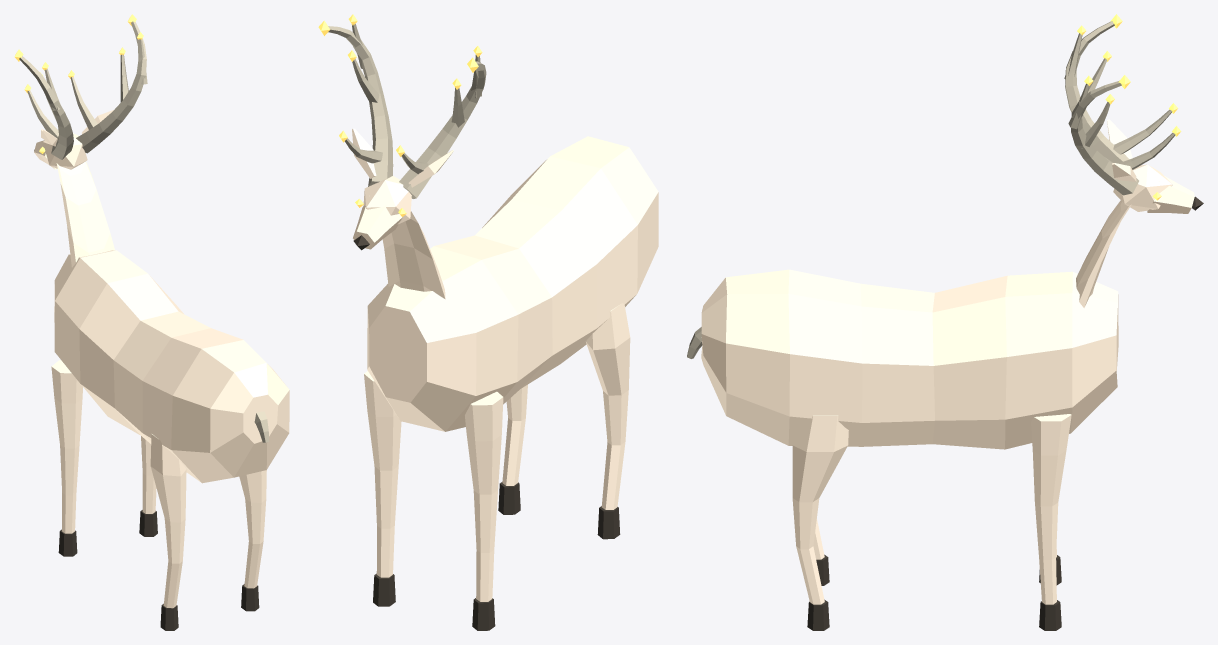
File: pale_hart.glb
The picture shows the model from 3 angles, left to right: view 1: azimuth 30°, elevation 25°; view 2: azimuth 150°, elevation 25°; view 3: azimuth 270°, elevation 25°; orthographic projection. The views are drawn at different scales.
Parts seen in each view (by area): view 1: body, neck, legBL, legFL, legBR, legFR; view 2: body, neck, legFL, legBL, legFR, legBR; view 3: body, neck, legBR, legFR.
Boxes of the visible parts, bbox=[...] form: body: bbox=[54, 250, 289, 483]; neck: bbox=[14, 14, 147, 267]; legBL: bbox=[150, 434, 186, 630]; legFL: bbox=[51, 360, 82, 556]; legBR: bbox=[239, 470, 266, 611]; legFR: bbox=[139, 436, 157, 536]; body: bbox=[367, 136, 658, 431]; neck: bbox=[318, 14, 486, 299]; legFL: bbox=[465, 391, 503, 630]; legBL: bbox=[586, 303, 630, 539]; legFR: bbox=[364, 371, 401, 606]; legBR: bbox=[498, 384, 527, 514]; body: bbox=[687, 269, 1118, 449]; neck: bbox=[1064, 14, 1203, 307]; legBR: bbox=[792, 415, 848, 630]; legFR: bbox=[1031, 414, 1071, 630].
Bounding box in the file's own units: 0.69 × 2.56 × 2.14.
